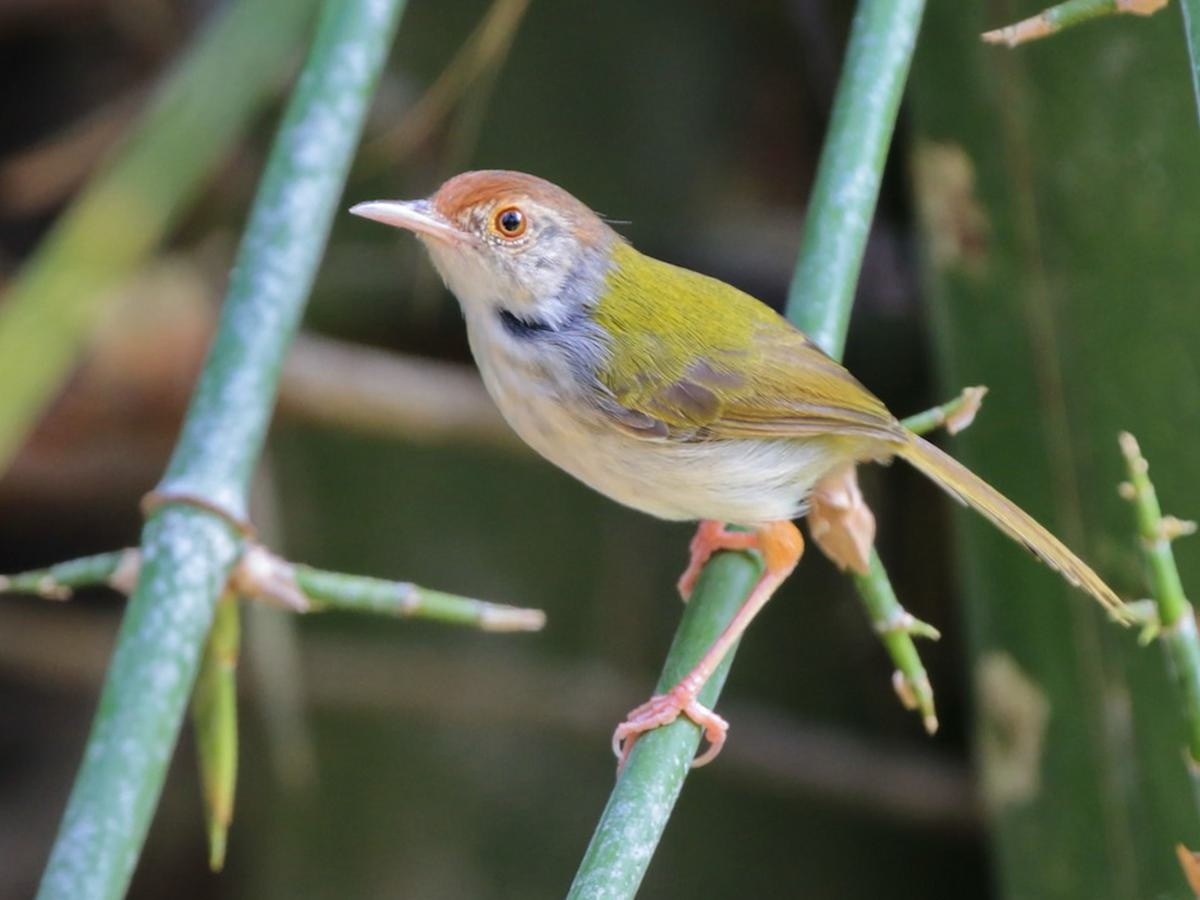tailorbird: (341, 158, 1103, 772)
